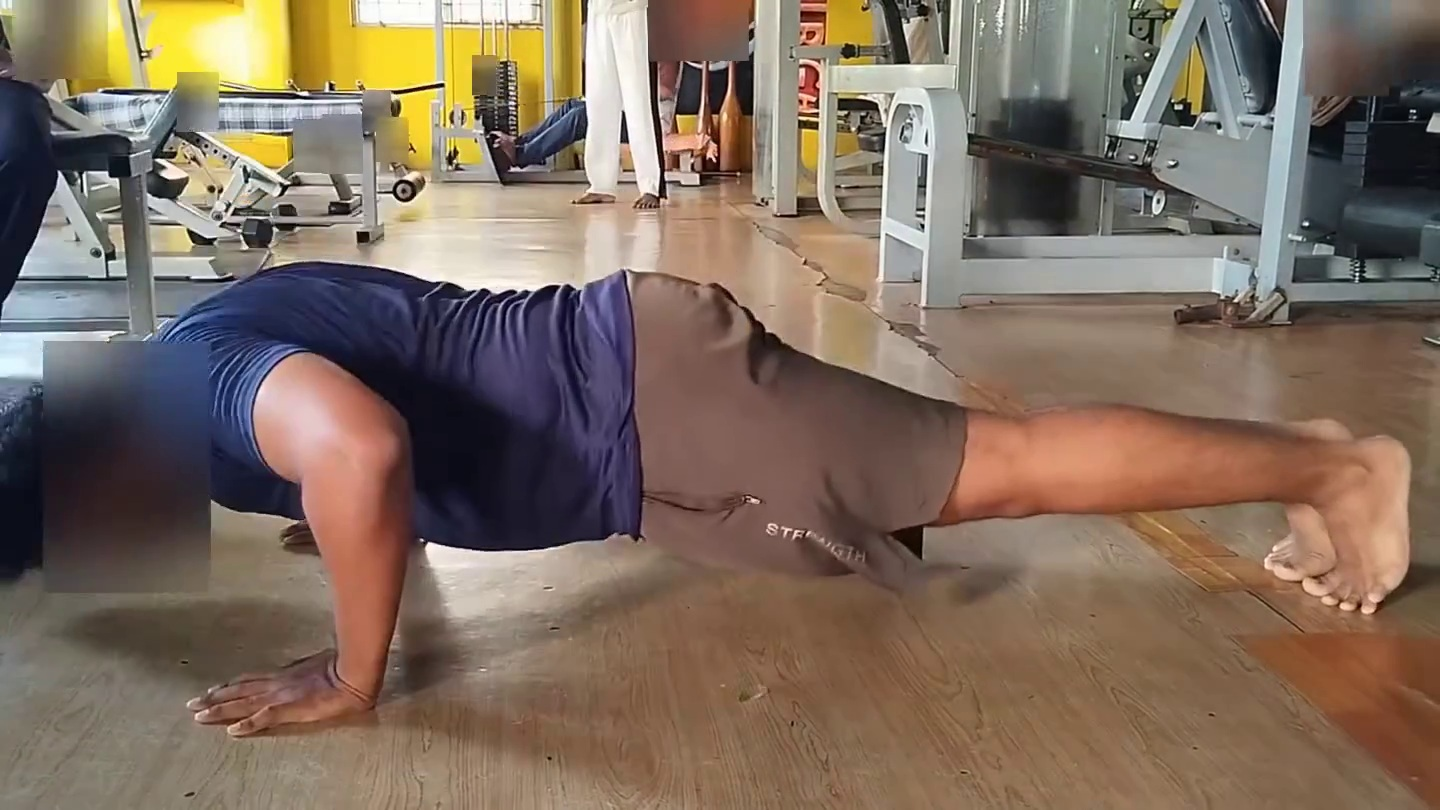push_up: (9, 210, 1440, 810)
